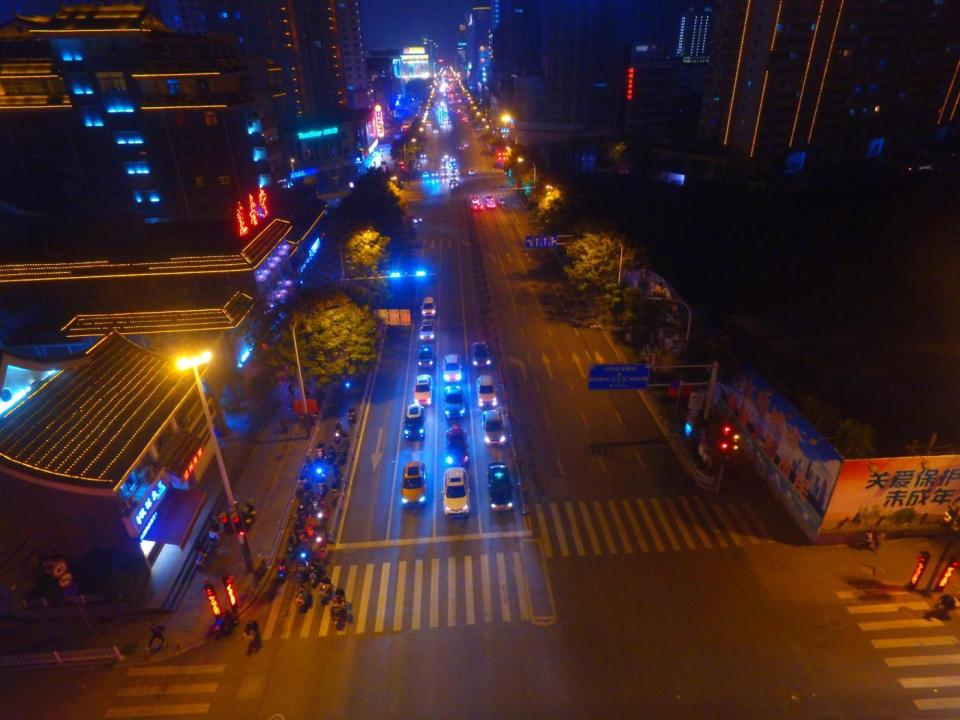car: (441, 467, 471, 519), (486, 462, 514, 512), (399, 460, 427, 506), (444, 426, 469, 467), (482, 409, 508, 446), (442, 385, 467, 420), (403, 404, 426, 439), (476, 374, 498, 408), (412, 374, 432, 406), (470, 340, 492, 368), (442, 353, 463, 381), (418, 318, 436, 341), (418, 344, 434, 368), (420, 297, 437, 317), (400, 212, 424, 226), (465, 196, 480, 205), (449, 178, 460, 190), (470, 202, 482, 210), (484, 201, 497, 208), (469, 168, 477, 176), (498, 196, 506, 204), (486, 194, 494, 202), (431, 171, 439, 178), (420, 152, 427, 159), (421, 171, 428, 178), (458, 145, 465, 151), (464, 142, 469, 148)
